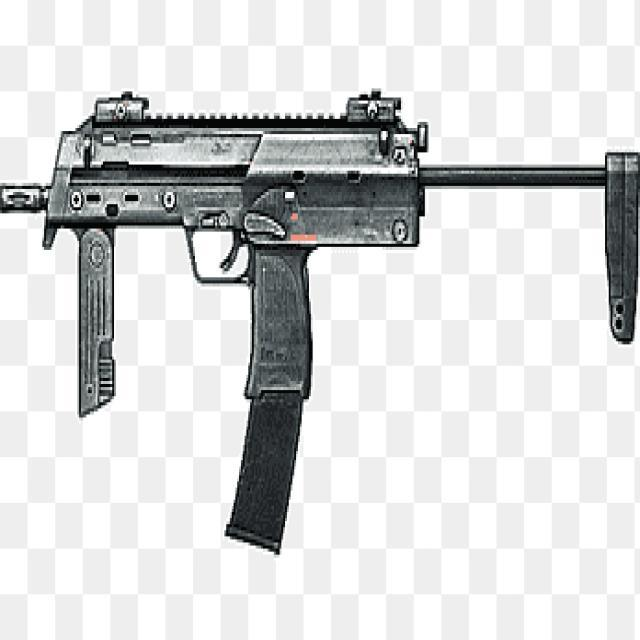smg: (4, 73, 640, 576)
